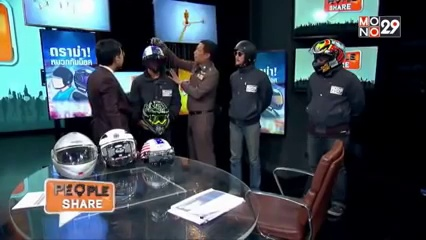helmet: (50, 127, 98, 175), (97, 125, 138, 162), (308, 34, 345, 70), (139, 96, 171, 134), (139, 134, 175, 162), (229, 35, 256, 69), (139, 44, 168, 73)
